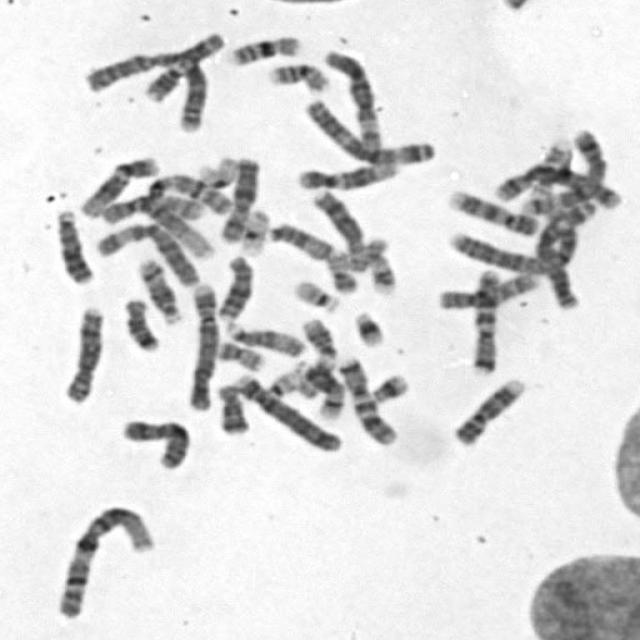A1: (50, 498, 160, 622), (139, 168, 235, 259)
A2: (78, 44, 214, 135), (444, 216, 585, 276)
A3: (300, 92, 440, 168), (528, 193, 598, 311)
B4: (225, 368, 345, 454), (180, 276, 219, 412)
B5: (518, 123, 608, 216), (486, 160, 625, 210)
C10: (432, 267, 542, 311), (96, 190, 210, 226)
C11: (138, 25, 228, 103), (291, 312, 339, 400)
C12: (74, 149, 161, 219), (292, 156, 402, 190)
C6: (90, 216, 204, 288), (318, 43, 387, 149)
C7: (332, 352, 400, 446), (465, 264, 505, 376)
C8: (306, 185, 372, 271), (58, 299, 108, 405)
C9: (448, 372, 528, 448), (442, 184, 542, 237)
D13: (50, 203, 96, 285), (212, 250, 256, 321)
D14: (133, 252, 185, 326), (292, 354, 348, 421)
D15: (220, 316, 308, 358), (262, 218, 336, 262)
E16: (222, 28, 304, 68), (264, 56, 332, 94)
E17: (532, 138, 580, 202), (360, 233, 399, 296)
E18: (118, 292, 162, 352), (211, 378, 251, 437)
F19: (192, 150, 242, 191), (234, 204, 272, 256)
F20: (210, 335, 268, 372), (320, 246, 360, 295)
G21: (365, 367, 413, 405), (348, 305, 388, 348)
G22: (288, 273, 342, 314), (261, 364, 301, 400)
X: (115, 412, 194, 472), (215, 151, 263, 245)
